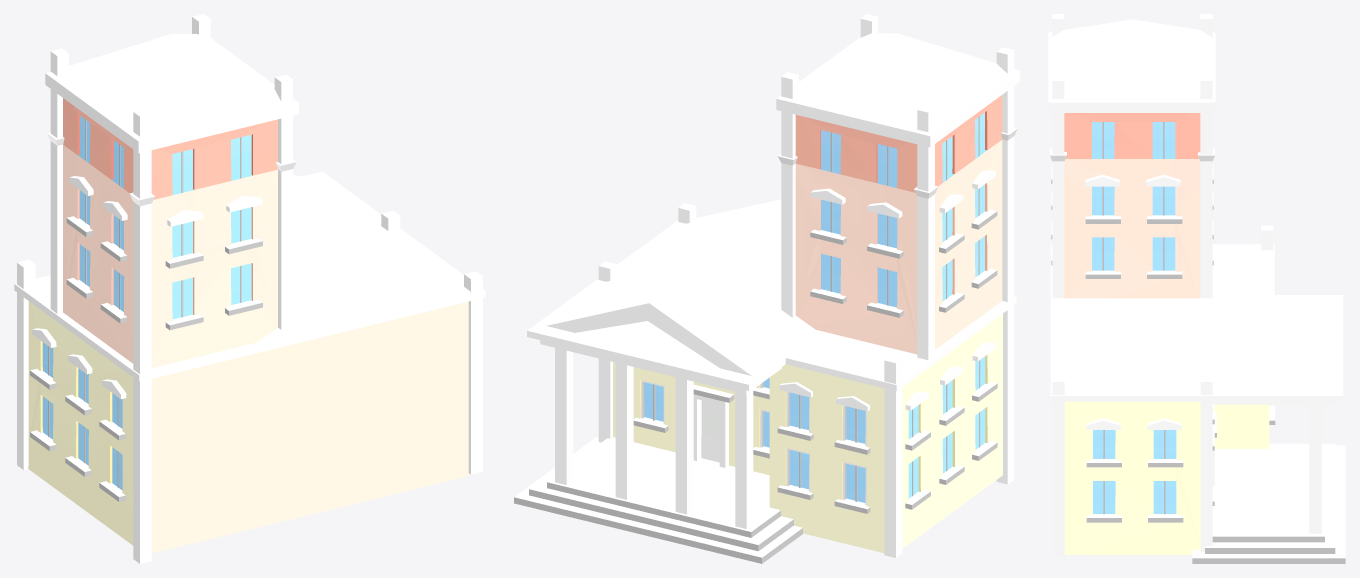
Rendered from art.001.glb.
3 views of the same model, side by side, from view 1: azimuth 30°, elevation 25°; view 2: azimuth 150°, elevation 25°; view 3: azimuth 270°, elevation 25° (orthographic). The views are drawn at different scales.
Parts seen in each view (by area): view 1: art.001(Clone); view 2: art.001(Clone); view 3: art.001(Clone).
Part boxes in pixels (x1,y1,x2,y2): art.001(Clone): (14, 14, 485, 563); art.001(Clone): (514, 14, 1019, 563); art.001(Clone): (1048, 14, 1345, 563).
Size of the model in its own units: 13.59 by 17.25 by 10.84.
1 material, 1 textured.
